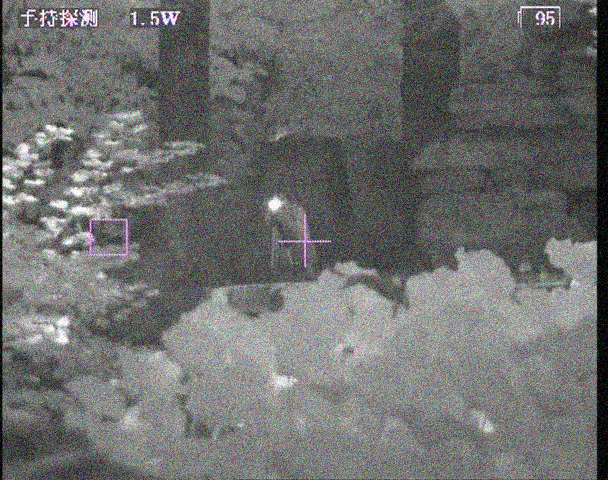my: (267, 195, 284, 212)
